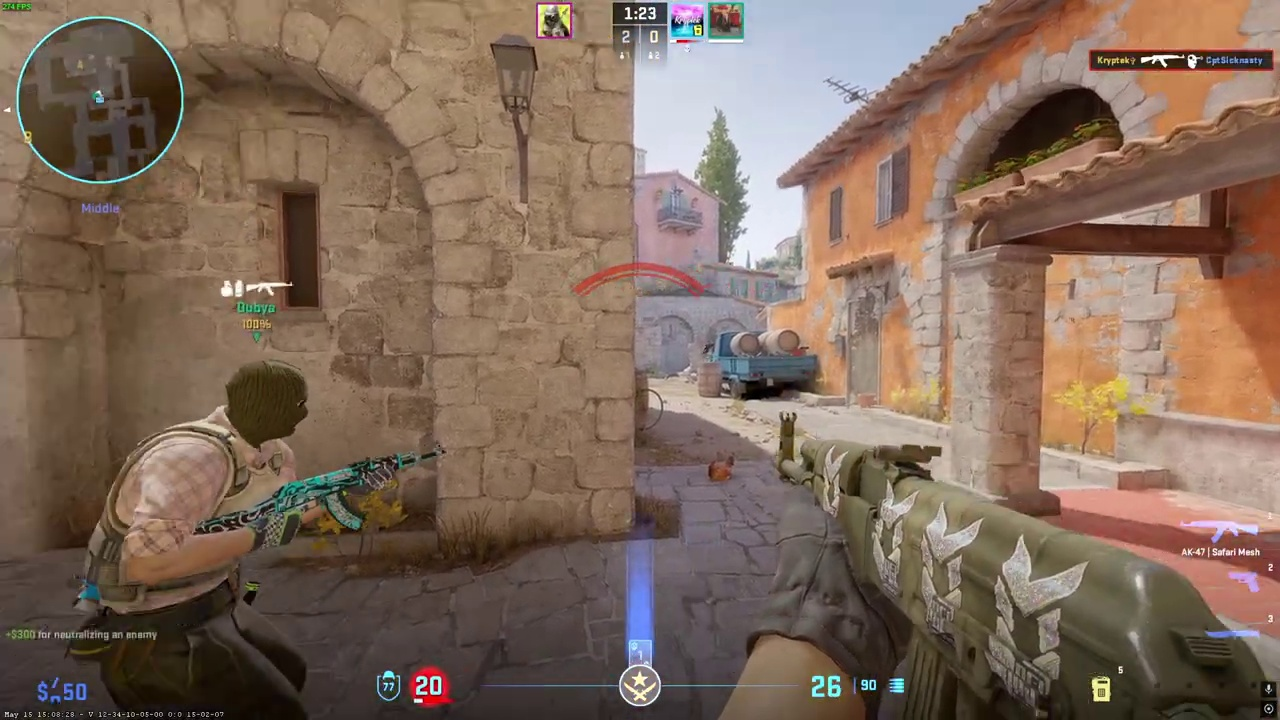Terrorist: (76, 358, 324, 720)
